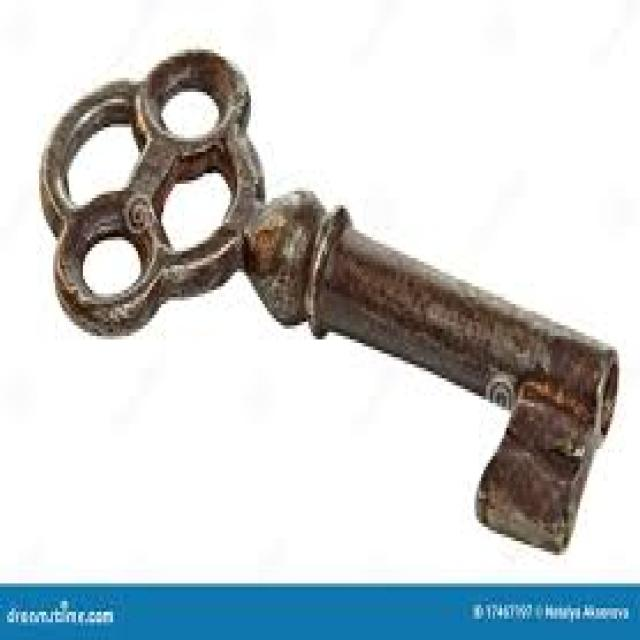key: (20, 36, 628, 564)
